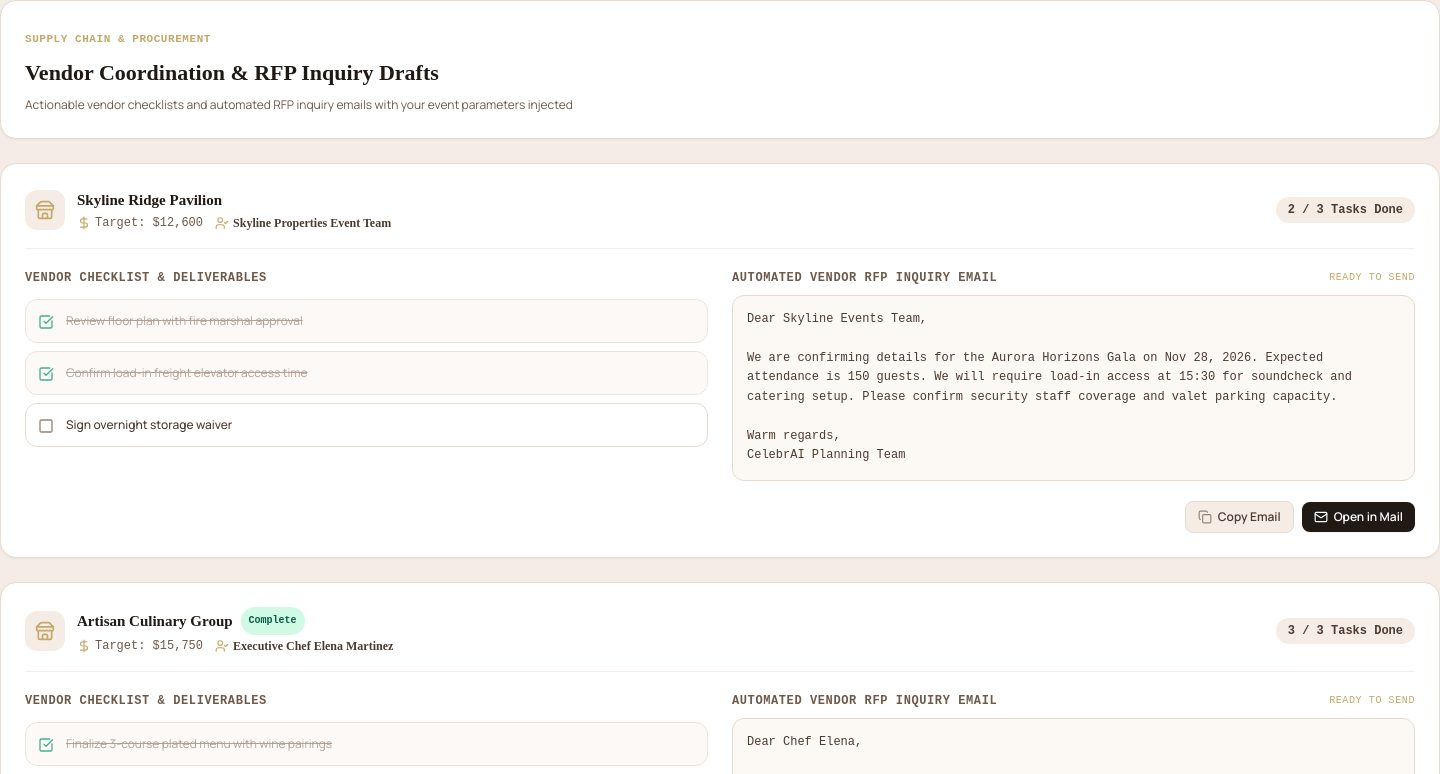
Scenario: Vendor inquiry clipboard feedback › waits for a completed write before announcing success
The width and height of the screenshot is (1440, 774).
Click the button "Copy Email": (1239, 517) [1185,501,1294,533]
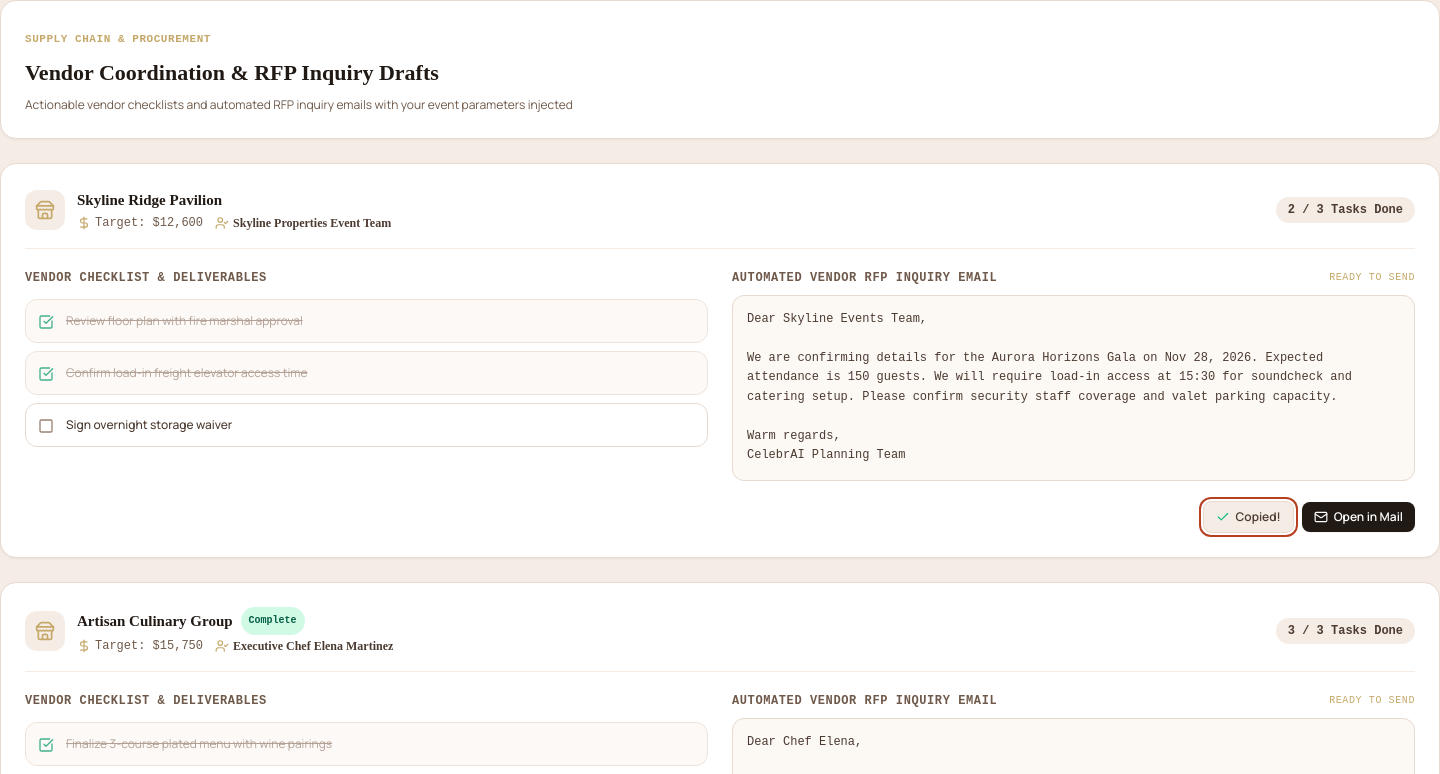
Now the button "Copied!" is shown, box [1202,501,1294,533]
